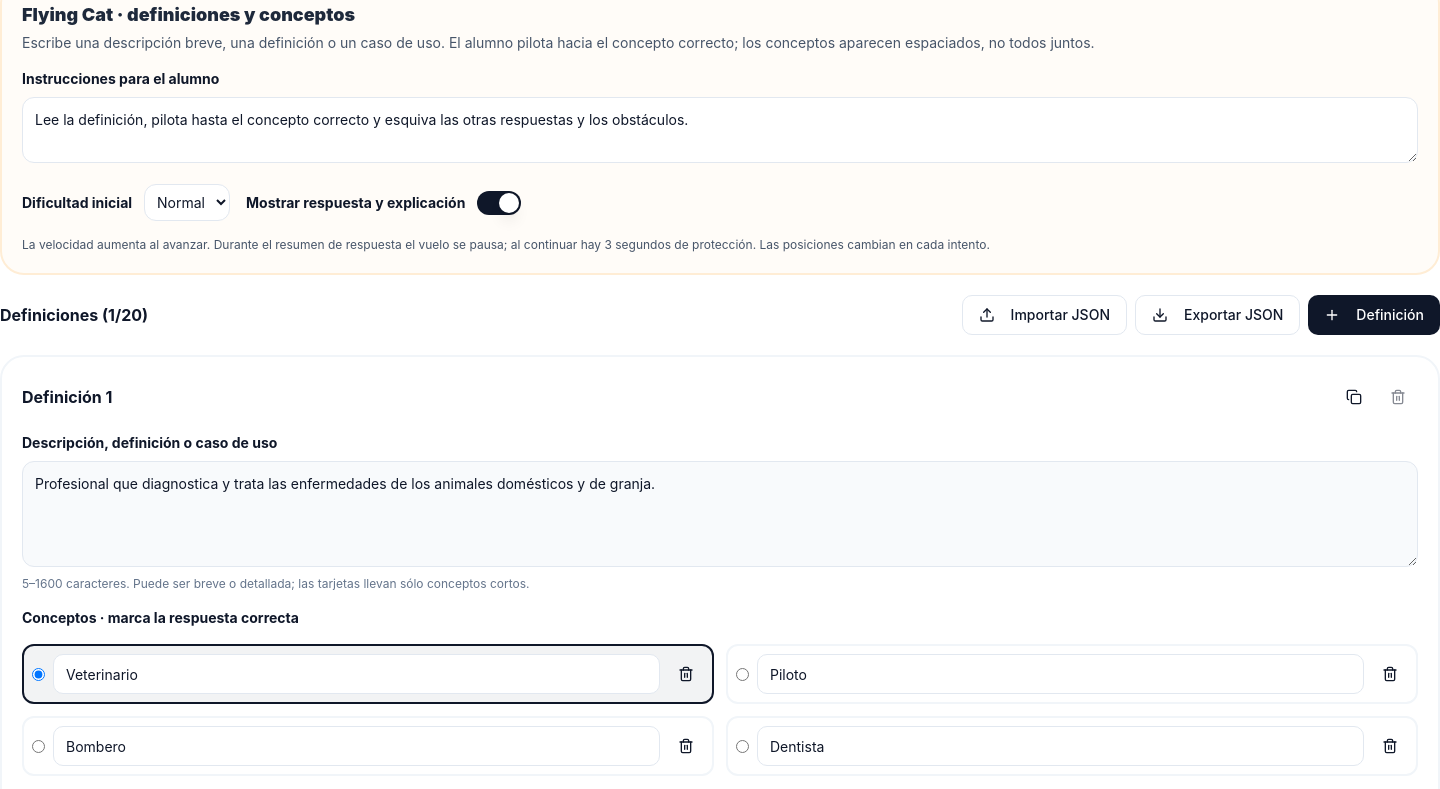
Test case: Flying Cat teacher editor › requires explicit choice when the correct concept is removed, not a silent reassignment
Step 1. Click the button named "Quitar concepto 1 de definición 1" → [686, 674], box [668,654,704,694]
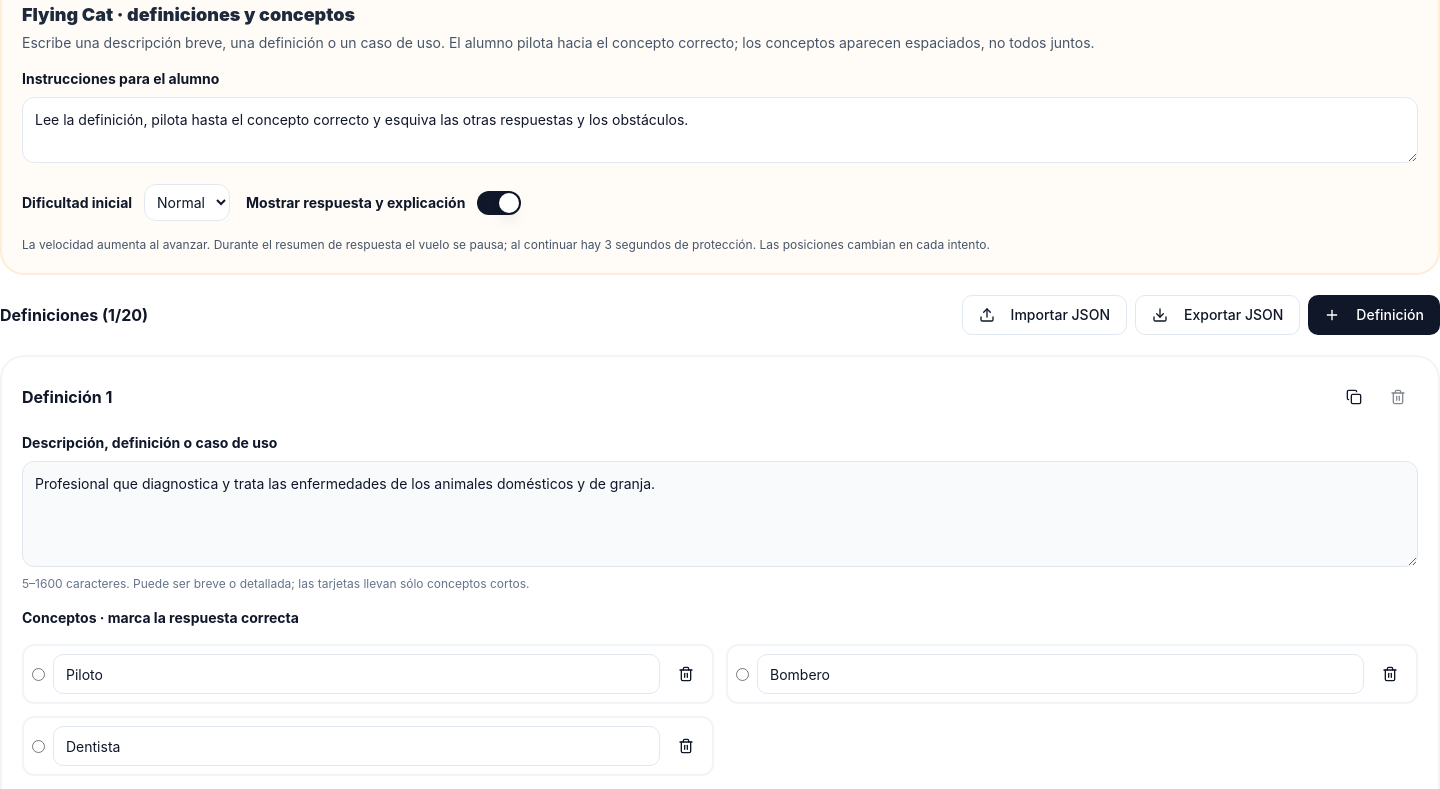
Step 2. Click the radio button named "Concepto 2 correcto de definición 1" → [742, 674], box [736,668,749,680]
(page scrolled)
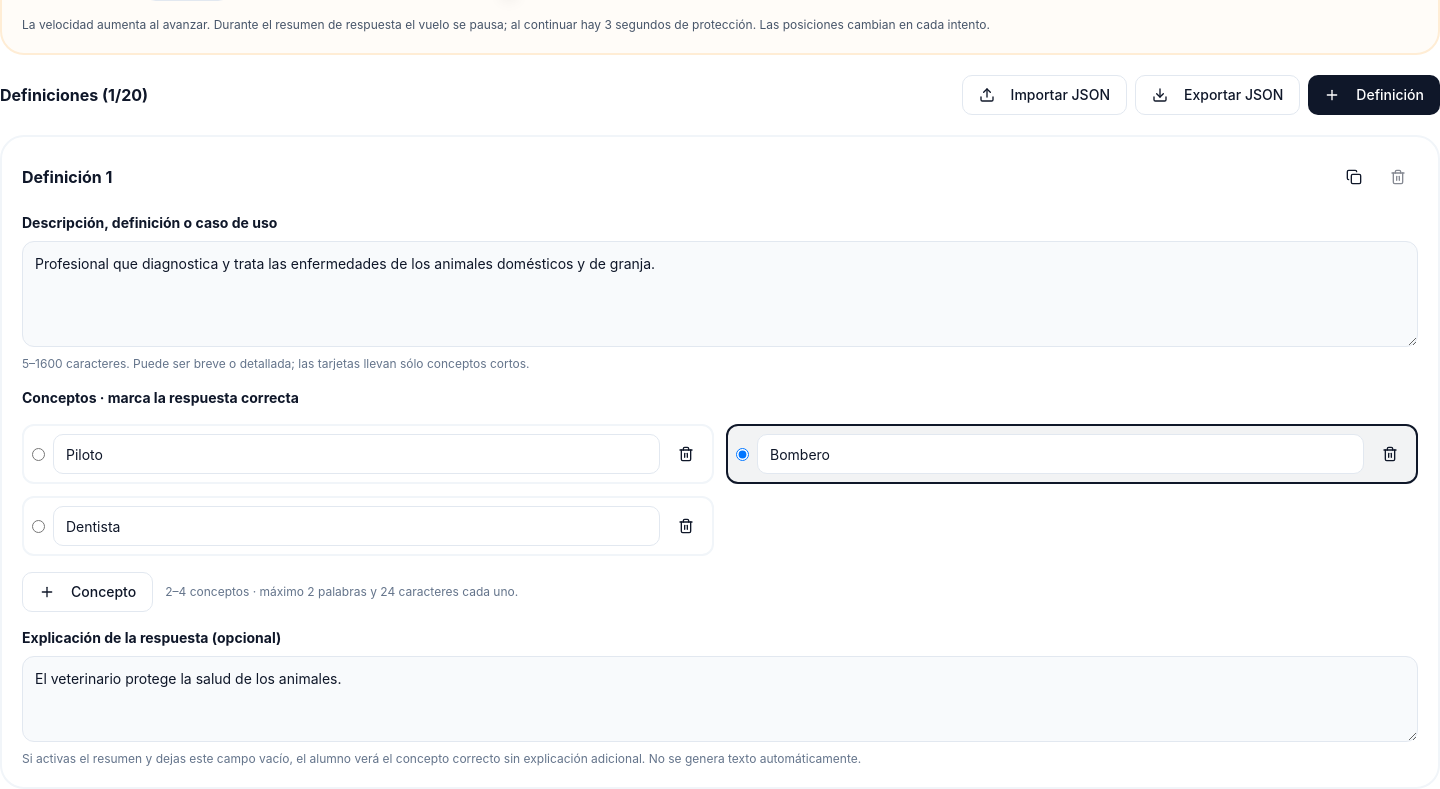
Step 3. Click the button "Concepto" → [88, 592], box [22,572,153,612]
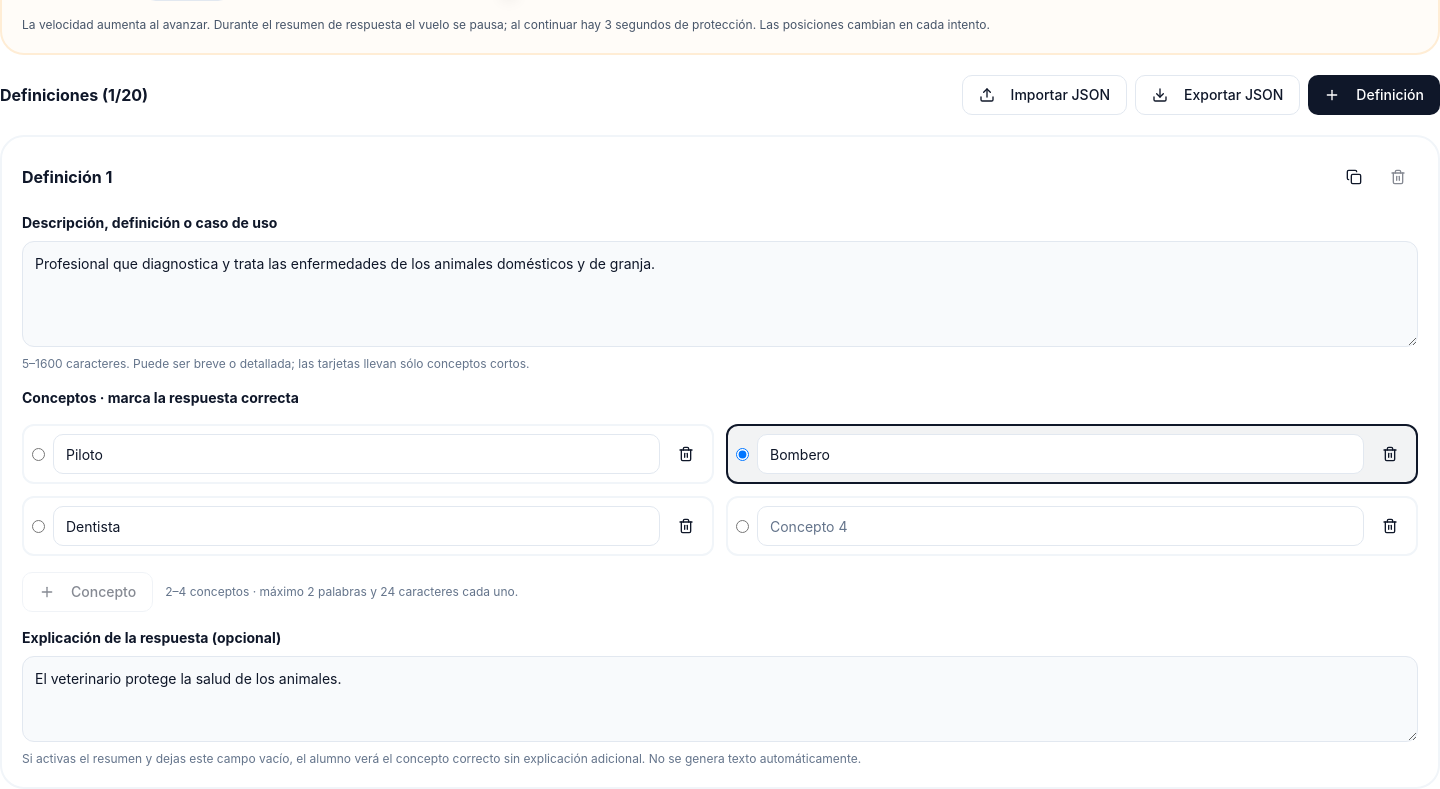
Expected: the button "Concepto" is disabled, [22,572,153,612]
